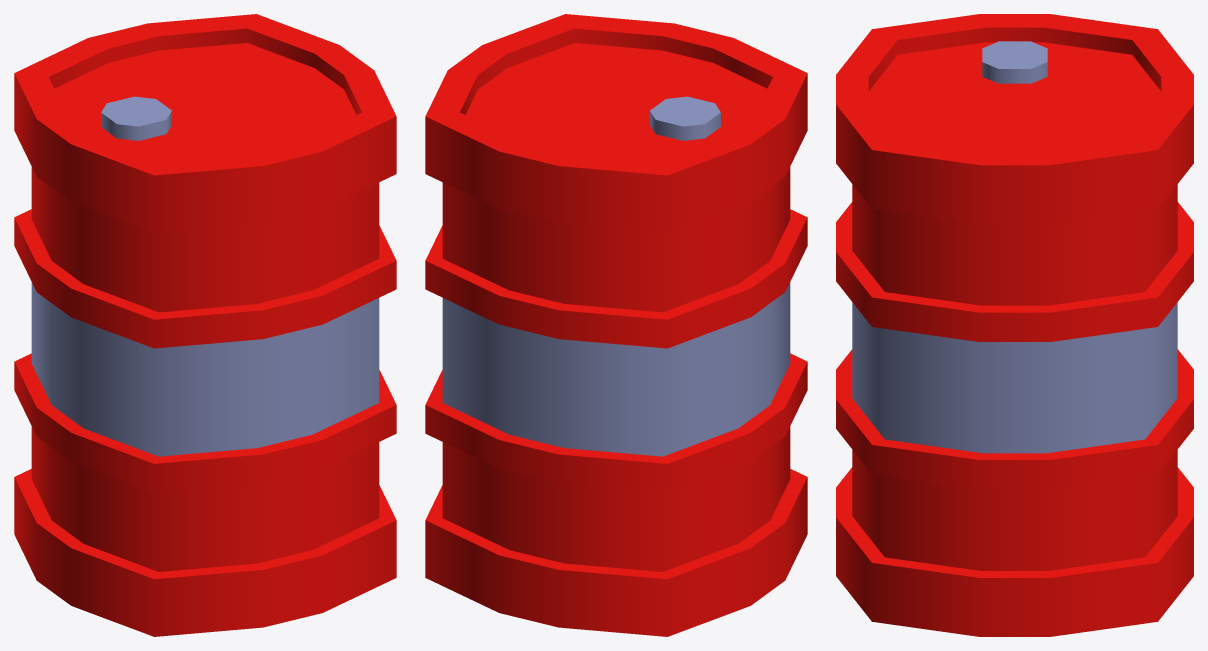
File: barrel.obj
3 renders of one model, left to right at view 1: azimuth 30°, elevation 25°; view 2: azimuth 150°, elevation 25°; view 3: azimuth 270°, elevation 25°, orthographic. The views are drawn at different scales.
Parts seen in each view (by area): view 1: barrel; view 2: barrel; view 3: barrel.
Boxes of the visible parts, left/top/right/bottom form: barrel: left=14, top=14, right=396, bottom=636; barrel: left=425, top=14, right=807, bottom=636; barrel: left=836, top=14, right=1193, bottom=636.
Bounding box in the file's own units: 0.2365 × 0.344 × 0.2365.
